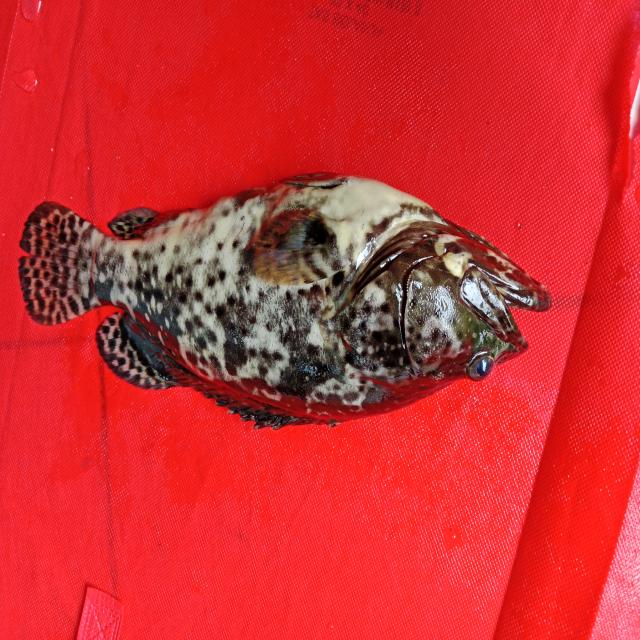ikan: (10, 148, 561, 444)
